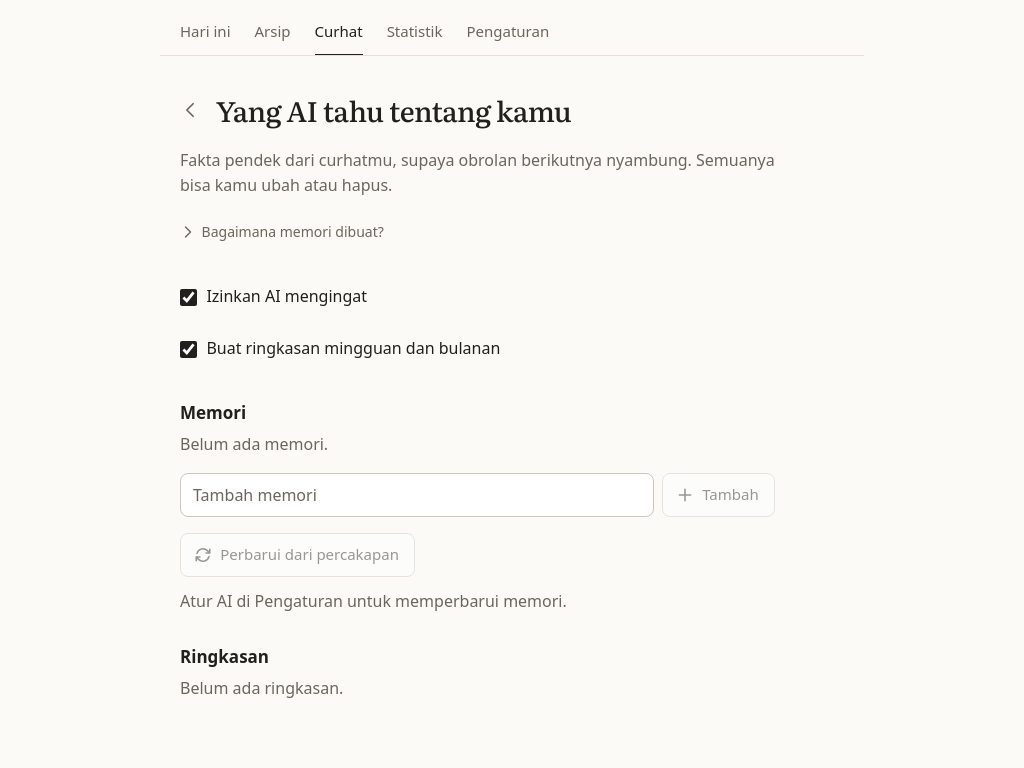
Test: a storage failure shows an alert that clears on the next successful change
Type "Kuliah di ITB" into the field labelled "Tambah memori" at (417, 495), box [180, 473, 654, 517]
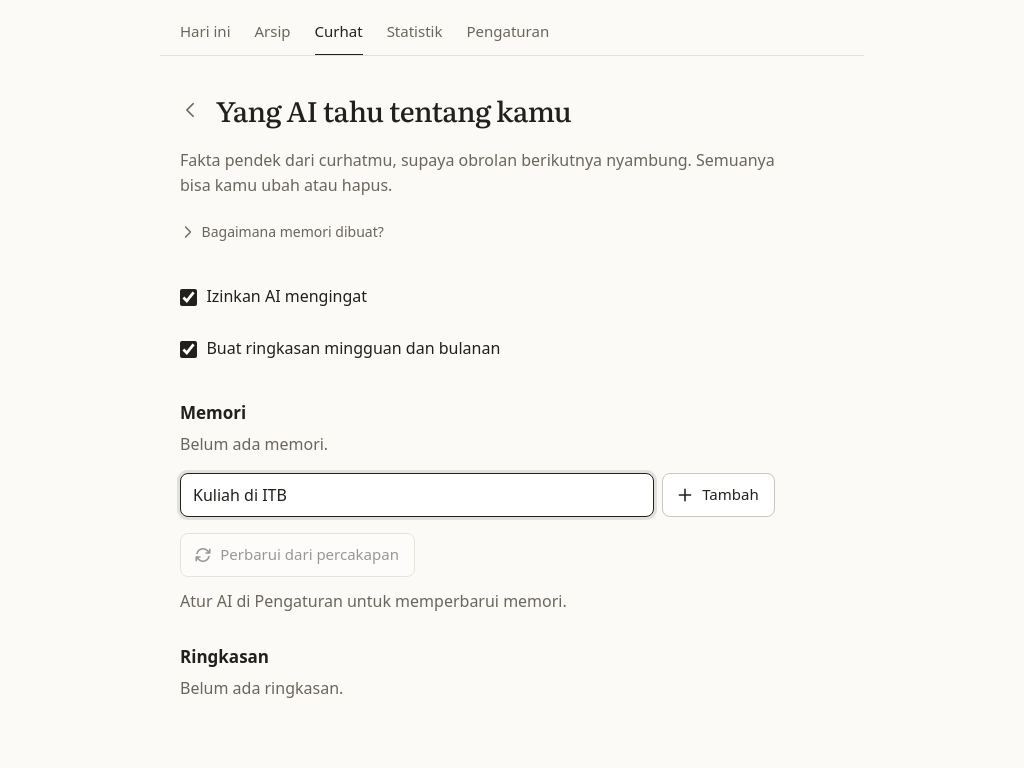
Click the button "Tambah" at (718, 495), box [662, 473, 775, 517]
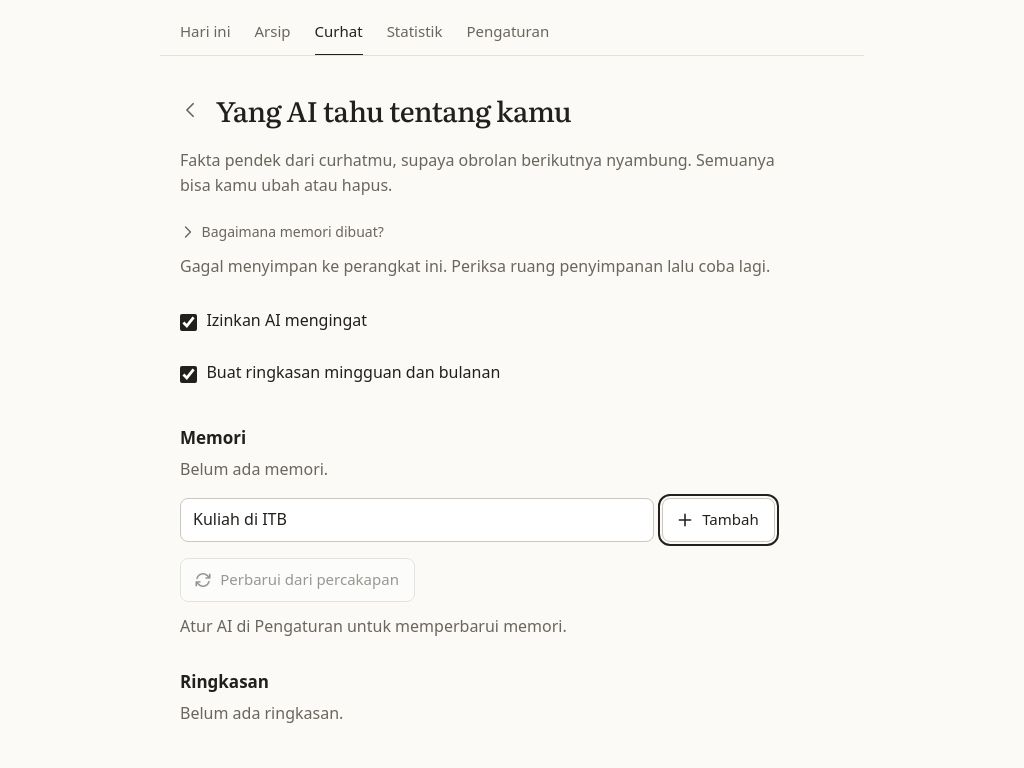
Expected: the message reads "Gagal menyimpan ke perangkat ini. Periksa ruang penyimpanan lalu coba lagi.", [180, 255, 770, 277]
Click the button "Tambah" at (718, 520), box [662, 498, 775, 542]
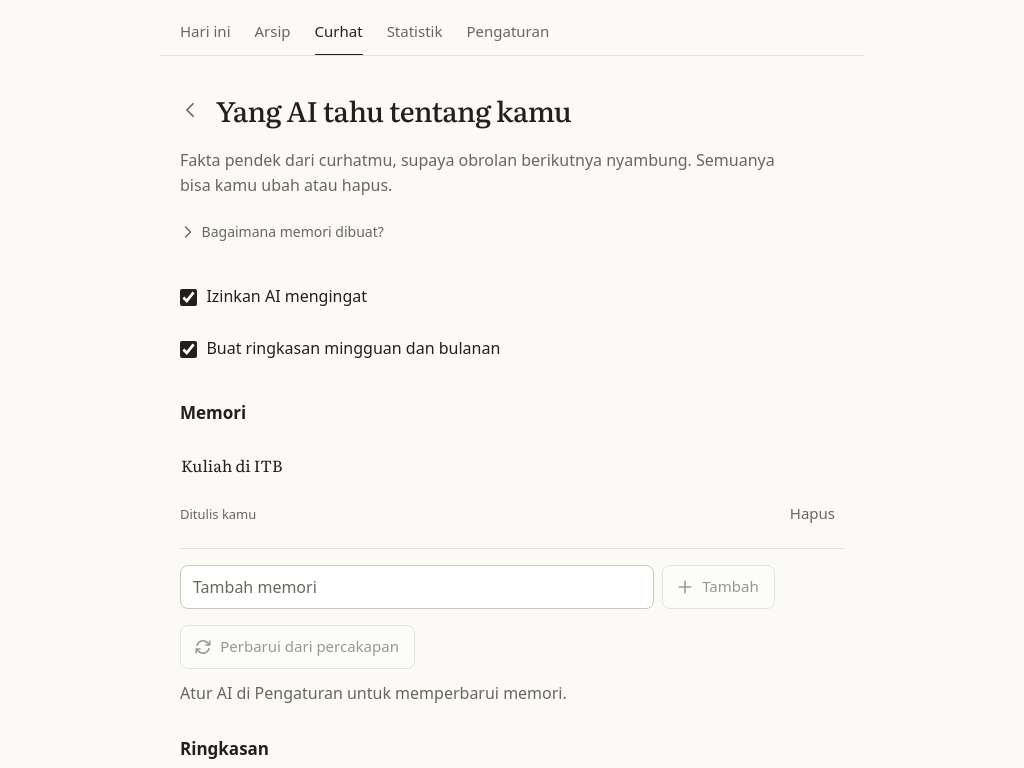
Expected: the message "Gagal menyimpan ke perangkat ini. Periksa ruang penyimpanan lalu coba lagi." is gone
